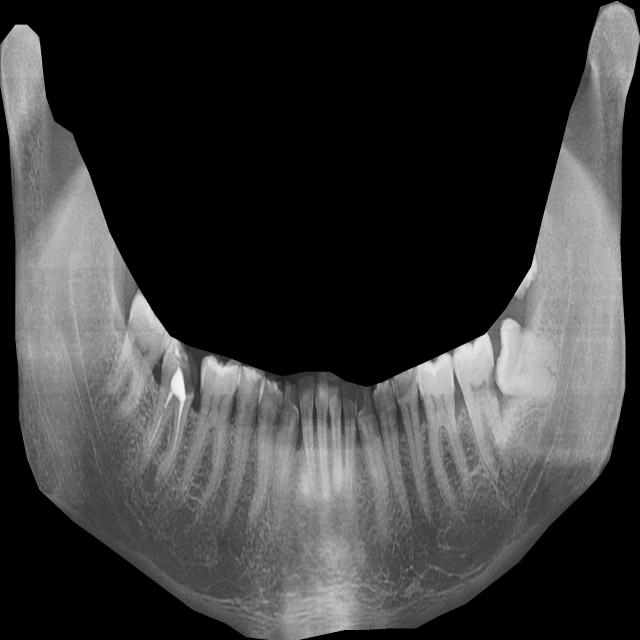mandibula: (0, 1, 640, 640)
